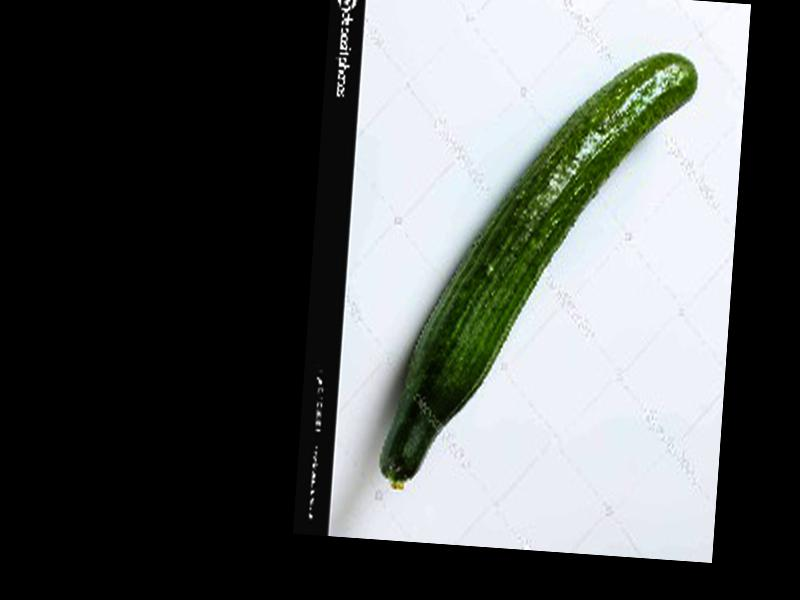Cucumber: (381, 37, 698, 508)
